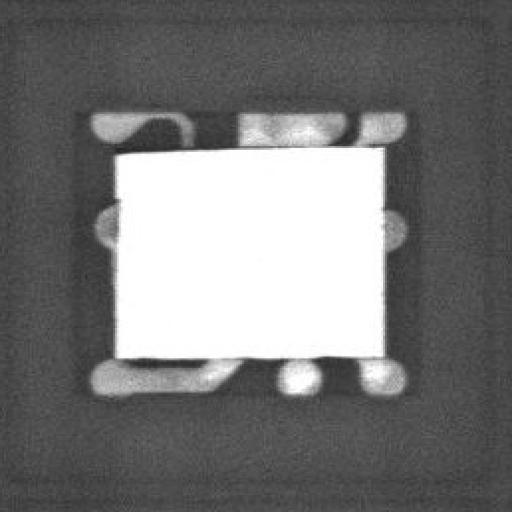DIE_BROKEN: (111, 144, 274, 156)
